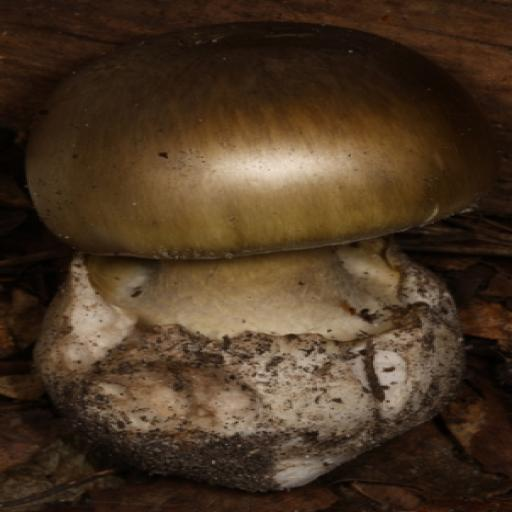mushroom: (12, 0, 505, 281)
